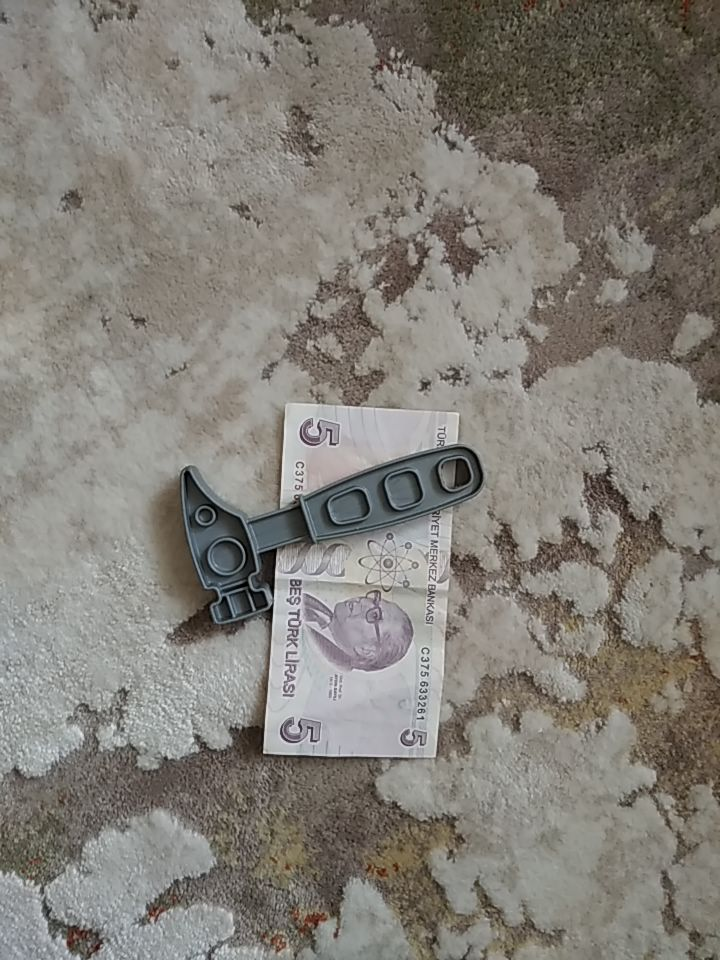5TL: (260, 401, 462, 761)
